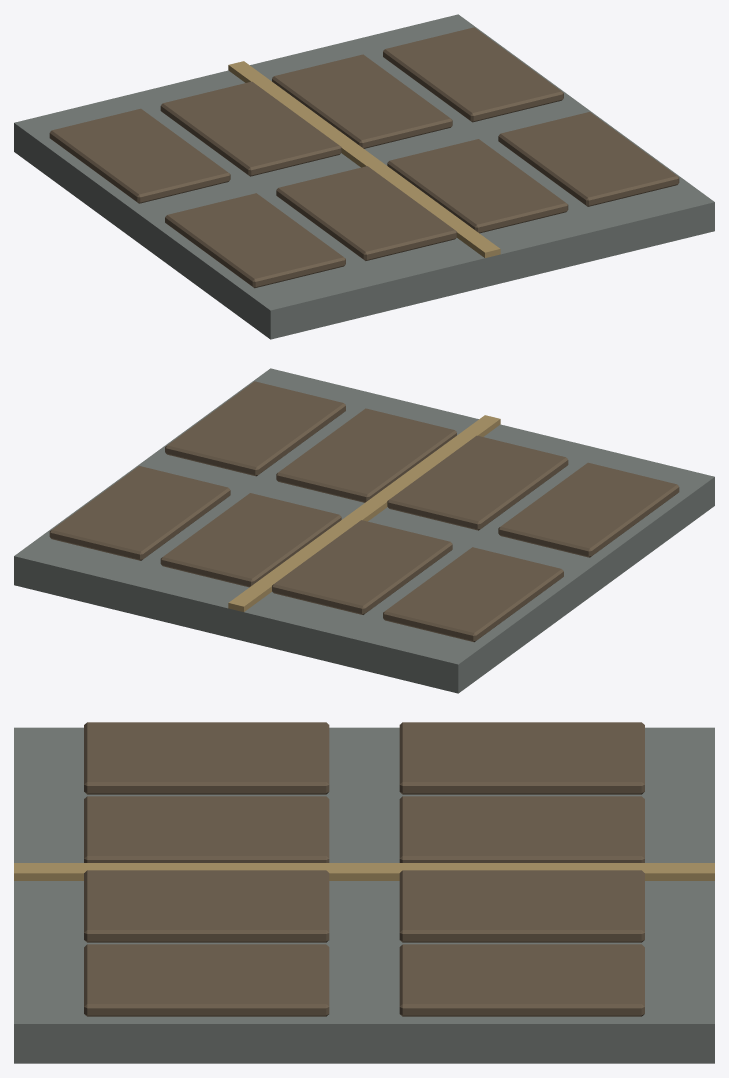
Rendered from terrain-cobble-straight.lod0.glb.
3 views of the same model, one above another, from view 1: azimuth 30°, elevation 25°; view 2: azimuth 150°, elevation 25°; view 3: azimuth 270°, elevation 25° (orthographic). The views are drawn at different scales.
Parts seen in each view (by area): view 1: terrain-cobble-straight__body; view 2: terrain-cobble-straight__body; view 3: terrain-cobble-straight__body.
Boxes of the visible parts, bbox=[...] form: terrain-cobble-straight__body: bbox=[14, 14, 714, 339]; terrain-cobble-straight__body: bbox=[14, 368, 714, 693]; terrain-cobble-straight__body: bbox=[14, 722, 714, 1063].
Bounding box in the file's own units: 2 × 0.165 × 2.
